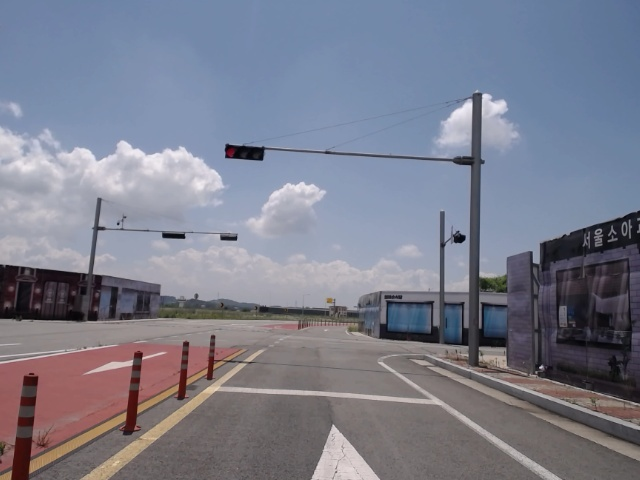red_3: (225, 144, 265, 161)
